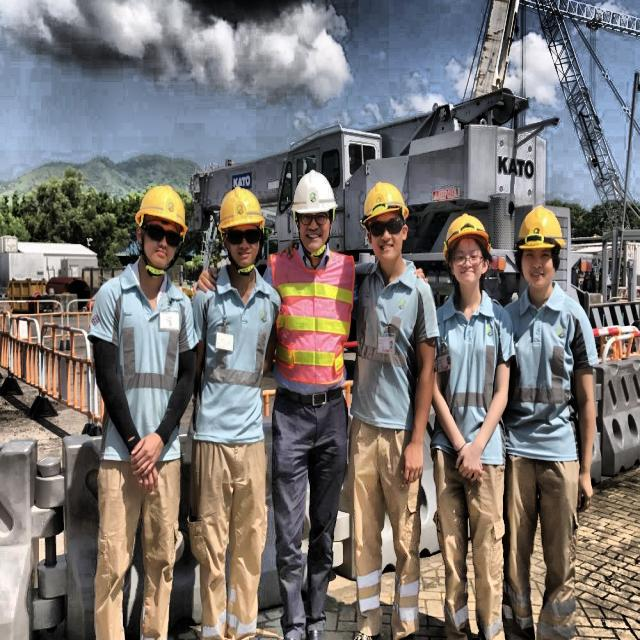safety_helmet: (133, 183, 190, 238), (290, 166, 342, 222), (513, 204, 568, 255), (215, 184, 268, 236), (358, 180, 412, 230), (441, 211, 493, 261)
safety_jacket: (96, 264, 189, 468), (186, 262, 282, 446), (339, 273, 438, 431), (266, 245, 357, 394), (509, 300, 591, 465), (433, 303, 514, 460)
